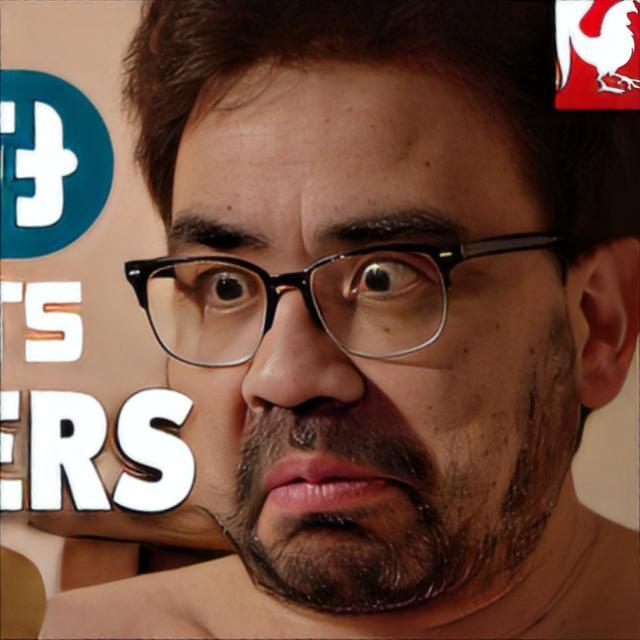fear: (163, 51, 566, 615)
